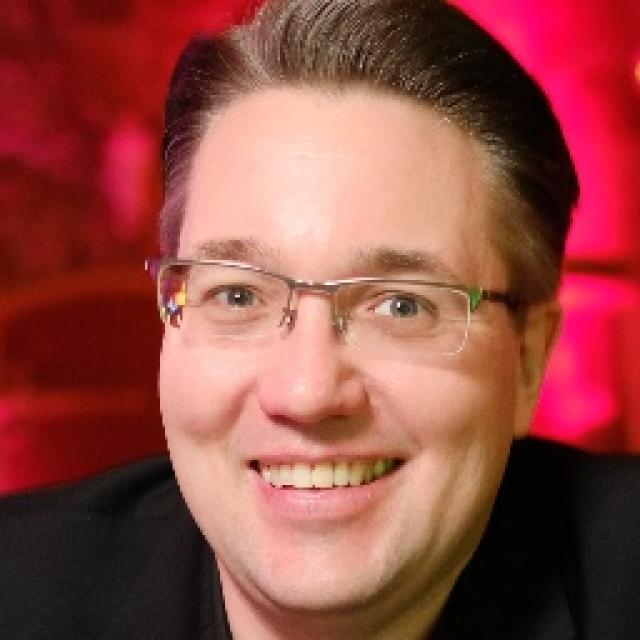earlobe: (508, 384, 537, 440)
eye: (357, 290, 437, 327), (201, 280, 266, 313)
nose: (265, 411, 359, 442)
wholeear: (507, 301, 566, 439)
